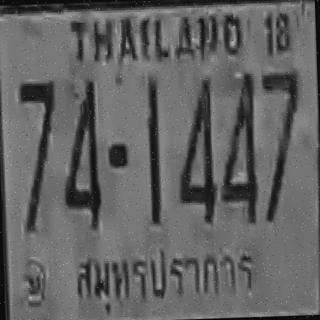N01: (144, 77, 162, 224)
N04: (216, 71, 259, 224), (59, 78, 102, 228), (174, 76, 216, 224)
N07: (259, 70, 304, 222), (18, 80, 59, 230), (19, 80, 57, 180)
P57: (64, 232, 260, 320)
